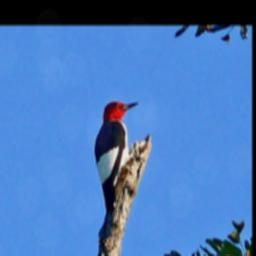Woodpecker: (84, 91, 145, 239)
